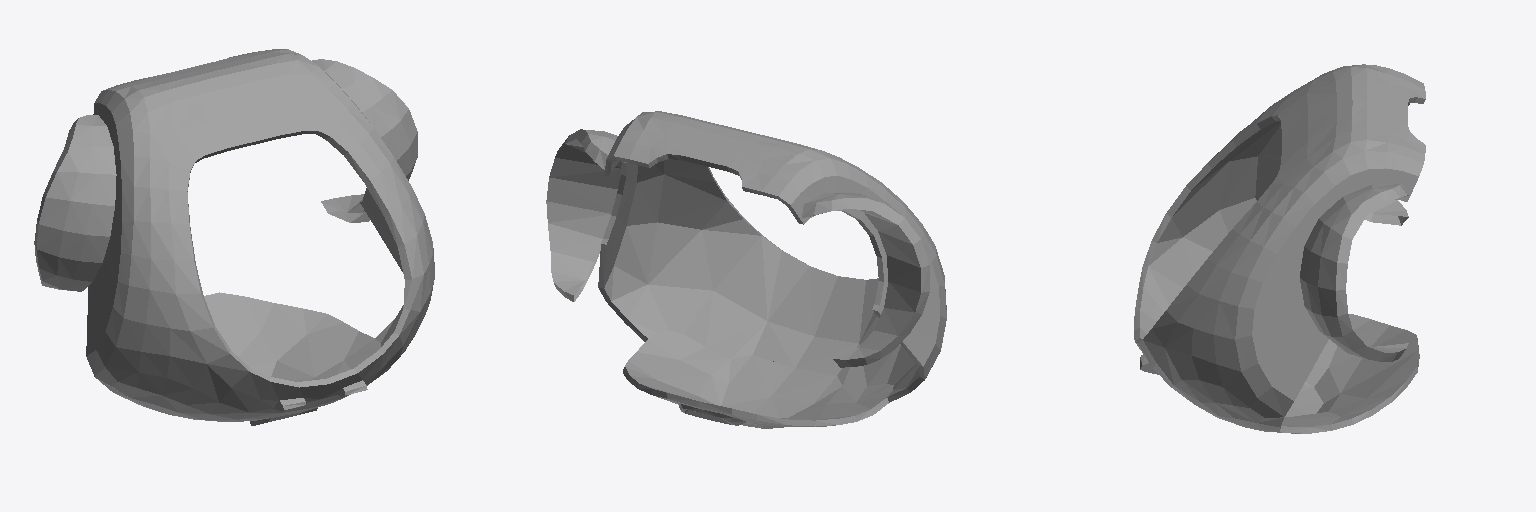
Rendered from ProtectronArmorFront.obj.
3 renders of one model, left to right at view 1: azimuth 30°, elevation 25°; view 2: azimuth 150°, elevation 25°; view 3: azimuth 270°, elevation 25°, orthographic.
Visible parts, largest first — view 1: FrontArmorProtectron:1_FrontArmorProtectron:0.001, FrontArmorProtectron:0; view 2: FrontArmorProtectron:0, FrontArmorProtectron:1_FrontArmorProtectron:0.001; view 3: FrontArmorProtectron:1_FrontArmorProtectron:0.001, FrontArmorProtectron:0.
Part boxes in pixels (left/top/right/bottom): FrontArmorProtectron:1_FrontArmorProtectron:0.001: left=36, top=49, right=434, bottom=421; FrontArmorProtectron:0: left=34, top=118, right=411, bottom=425; FrontArmorProtectron:0: left=546, top=129, right=929, bottom=426; FrontArmorProtectron:1_FrontArmorProtectron:0.001: left=574, top=111, right=946, bottom=428; FrontArmorProtectron:1_FrontArmorProtectron:0.001: left=1135, top=64, right=1425, bottom=433; FrontArmorProtectron:0: left=1134, top=97, right=1425, bottom=433.
Bounding box in the file's own units: 5.86 × 4.5 × 3.88.